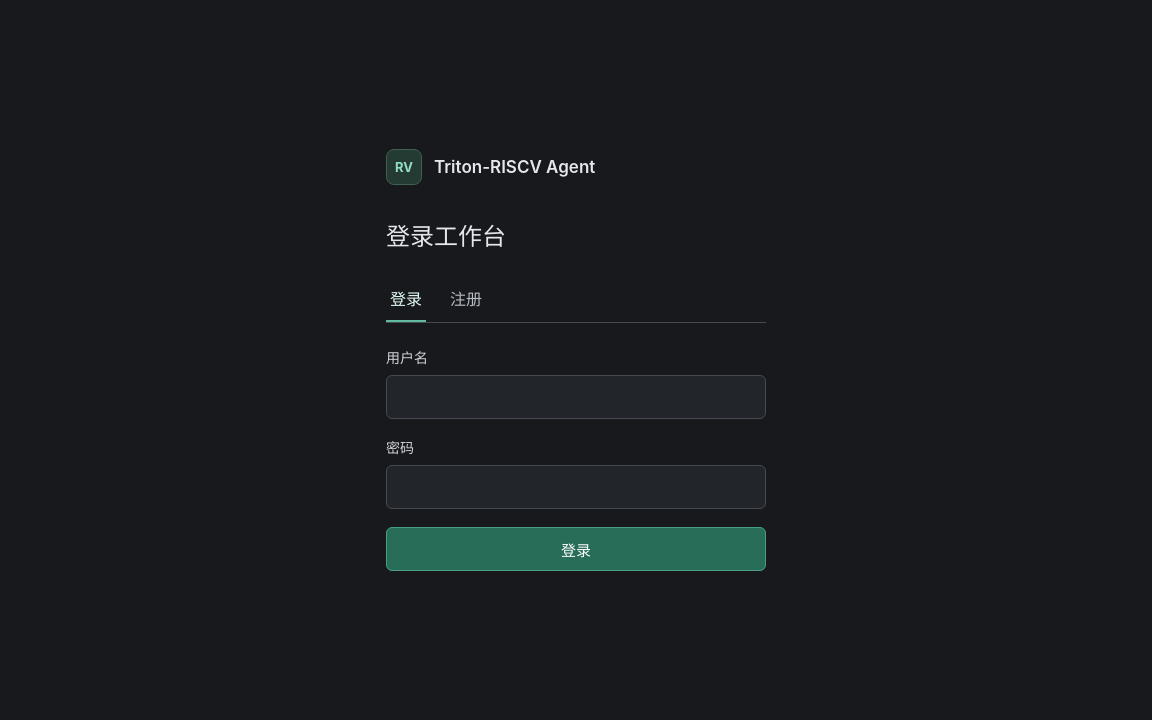
Test case: does not let a background identity check interrupt an in-flight login
Expected: the heading "登录工作台" is shown, [386,222,506,251]
Step 1. Type "alice" into the field labelled "用户名" → (576, 397), box [386,375,766,419]
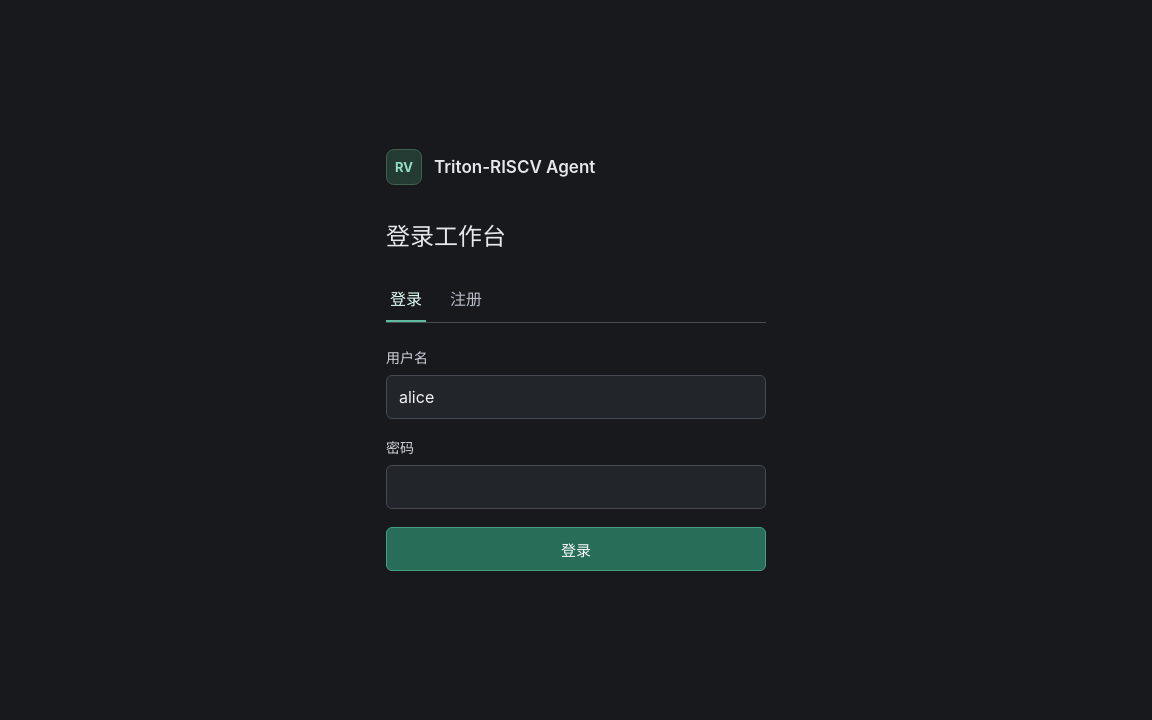
Step 2. Type "long-test-password" into the password field labelled "密码" → (576, 487), box [386,465,766,509]
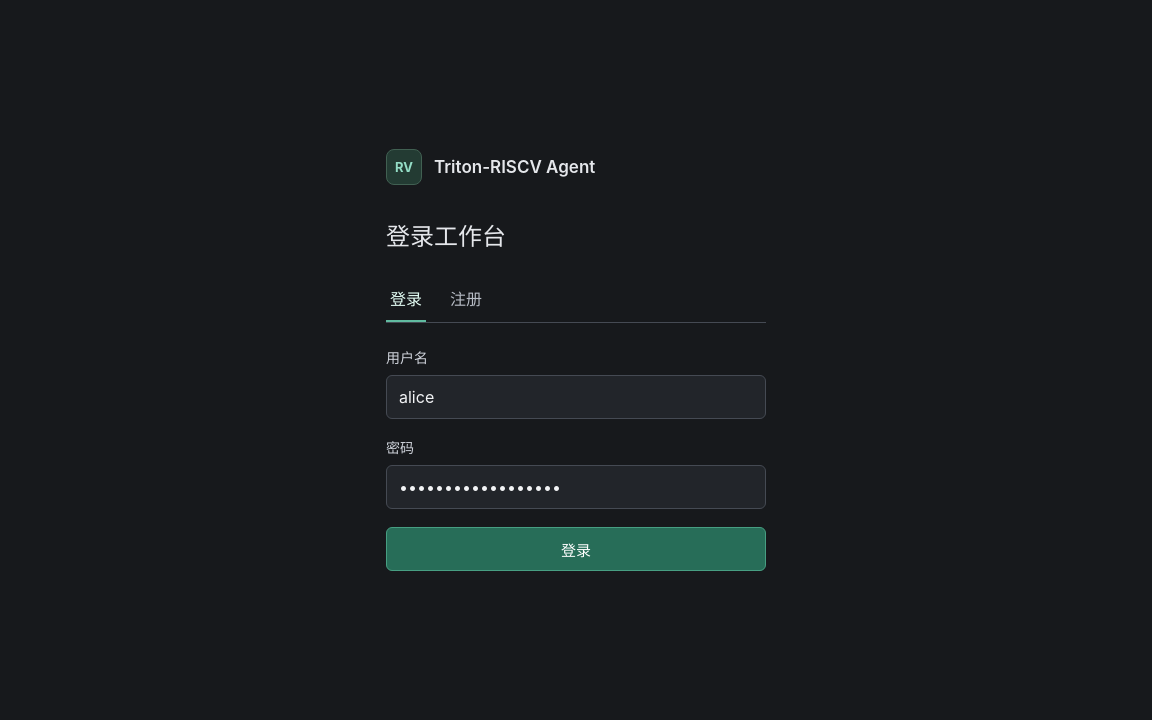
Step 3. Click the button "登录" → (576, 549), box [386,527,766,571]
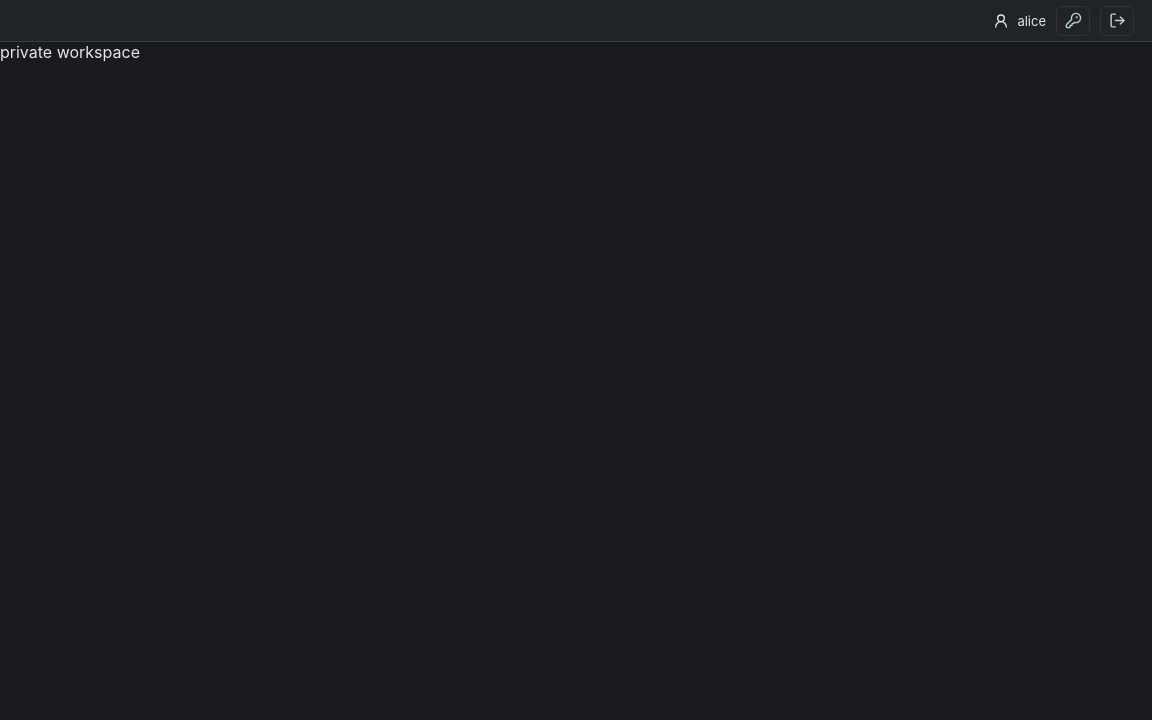
Now the text "private workspace" is shown, box [0,42,140,62]
